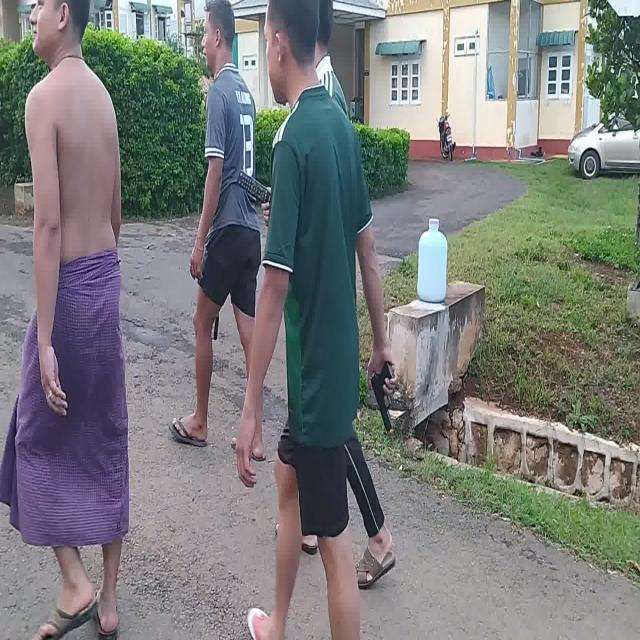gun: (372, 361, 394, 433)
